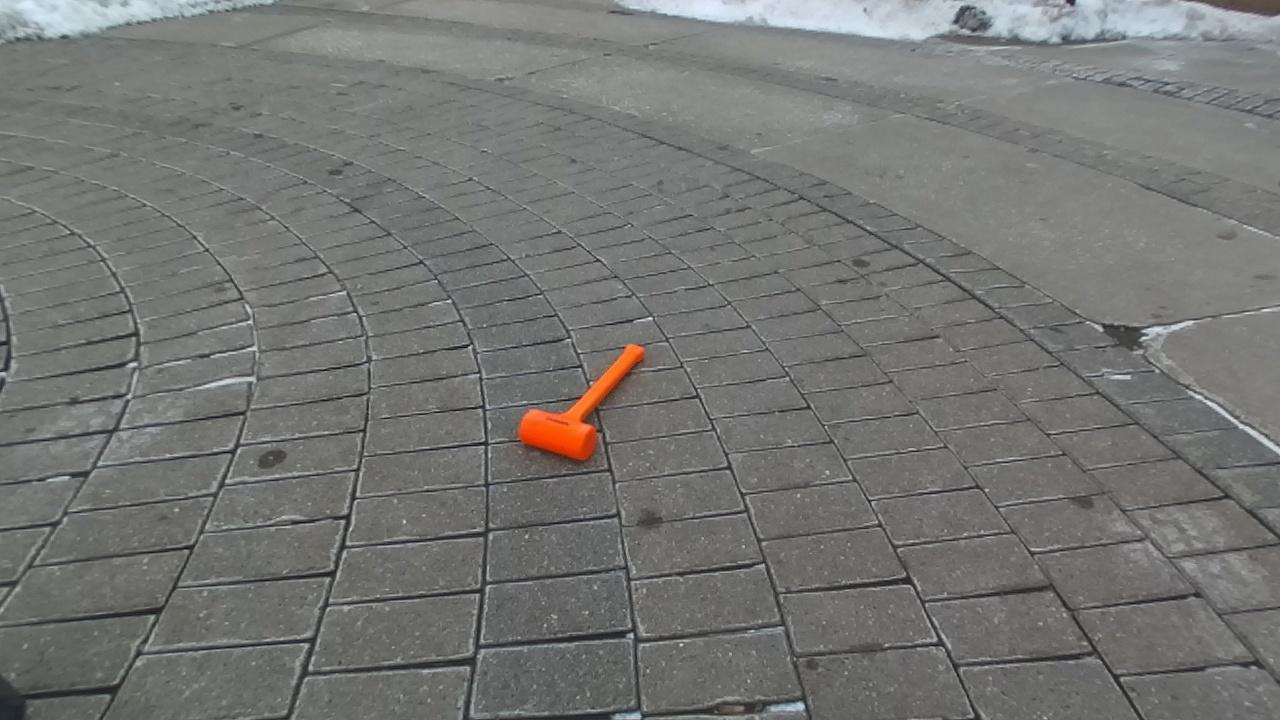mallet: (518, 345, 643, 460)
